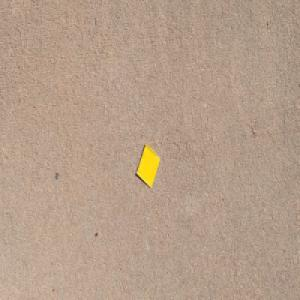PlasticPart: (135, 142, 160, 188)
